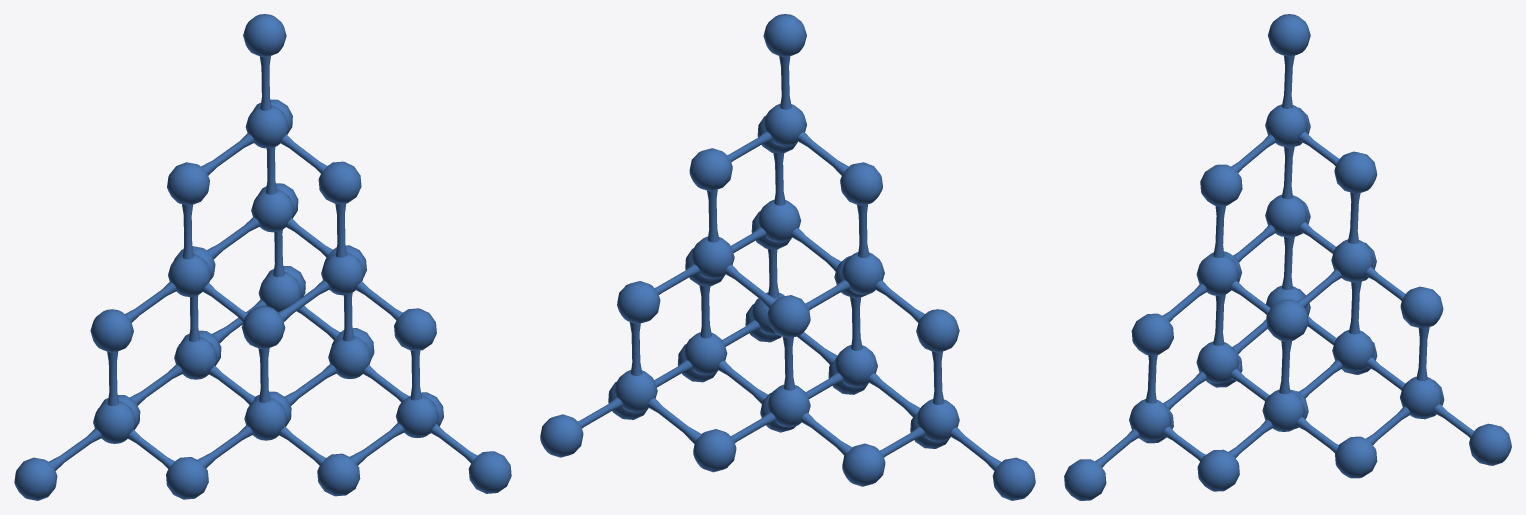
The model's file is Diamond_structure.fbx.
3 renders of one model, left to right at view 1: azimuth 30°, elevation 25°; view 2: azimuth 150°, elevation 25°; view 3: azimuth 270°, elevation 25°, orthographic.
Visible parts, largest first — view 1: diamond_structure; view 2: diamond_structure; view 3: diamond_structure.
Boxes of the visible parts, bbox=[...] form: diamond_structure: bbox=[14, 14, 511, 500]; diamond_structure: bbox=[540, 14, 1035, 500]; diamond_structure: bbox=[1064, 14, 1511, 500].
Size of the model in its own units: 94.63 by 100 by 95.68.
1 material, 1 textured.
